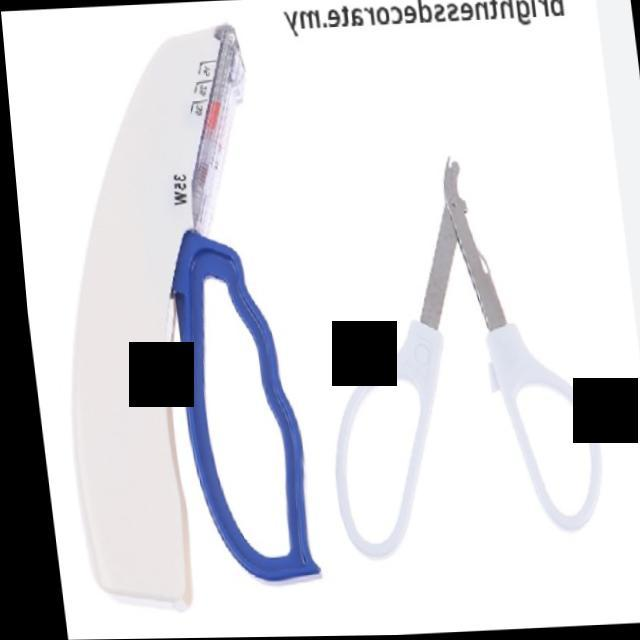Skin Stapler: (12, 23, 324, 610)
Stapler Remover: (288, 120, 613, 566)
